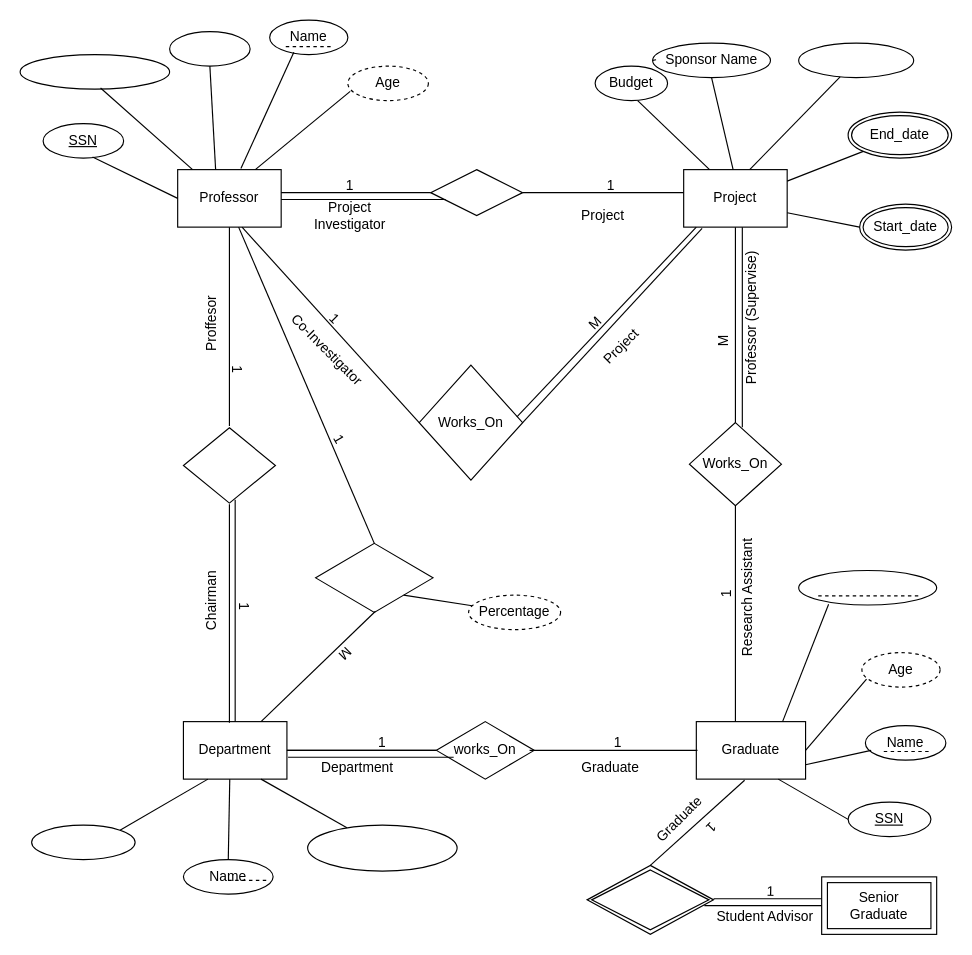
Image size: 972x955. Some labels were removed from this diagram. Here are the shapes that lost their labels. From the top down, the centre of each, then its label:
At (209,48): "Rank".
At (856,60): "Project Number".
At (94,71): "Research Speciality".
At (476,192): "Manager".
At (228,465): "Run".
At (374,577): "Works_In".
At (867,587): "Degree Program".
At (82,842): "Main Office".
At (381,847): "Department Number".
At (650,899): "Relationship".
